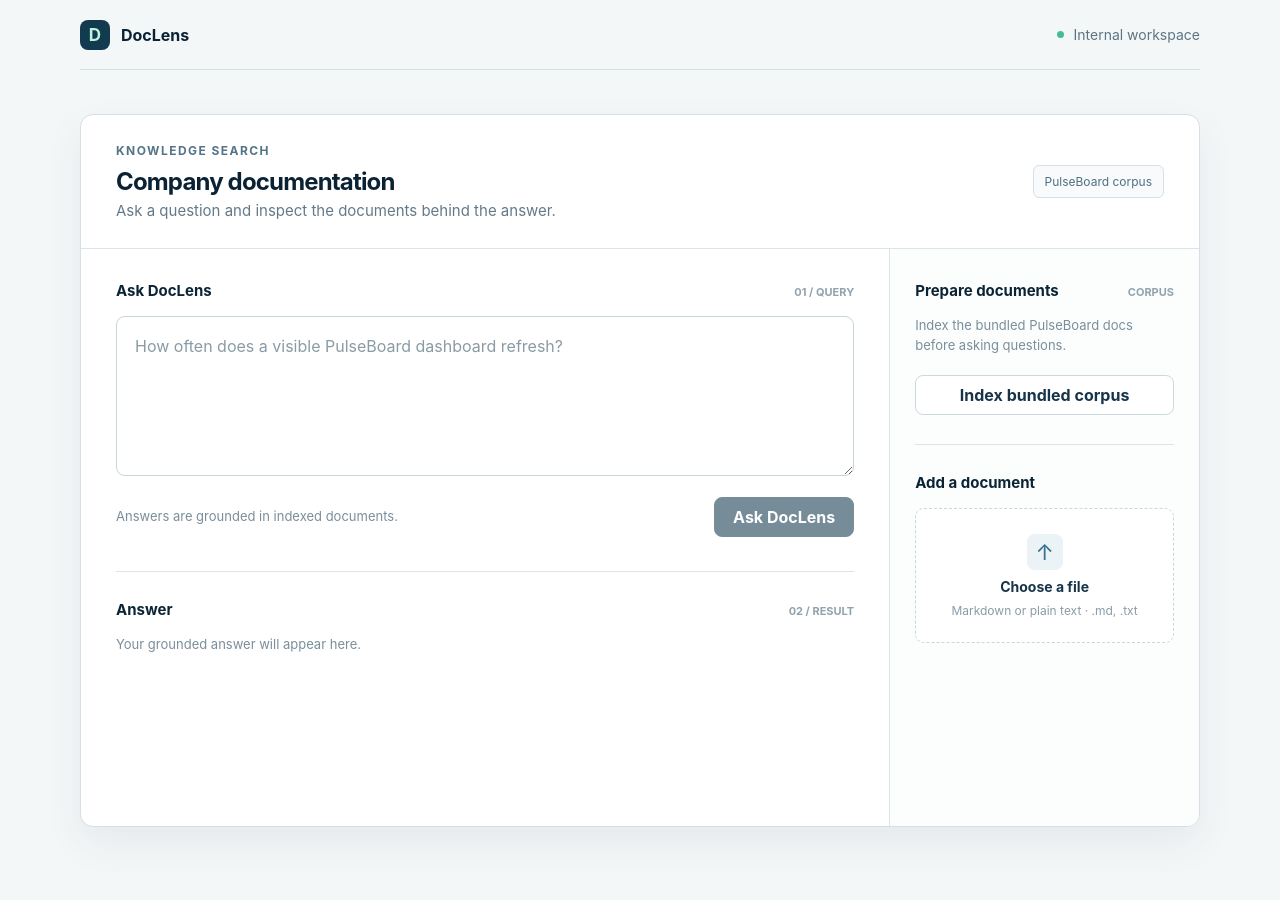
Test: DocLens frontend › shows a safe message when the backend cannot be reached
Type "Is the backend available?" into the text box named "Question".
click(485, 396); type("Is the backend available?")  # box top-left (116, 316), bottom-right (854, 476)
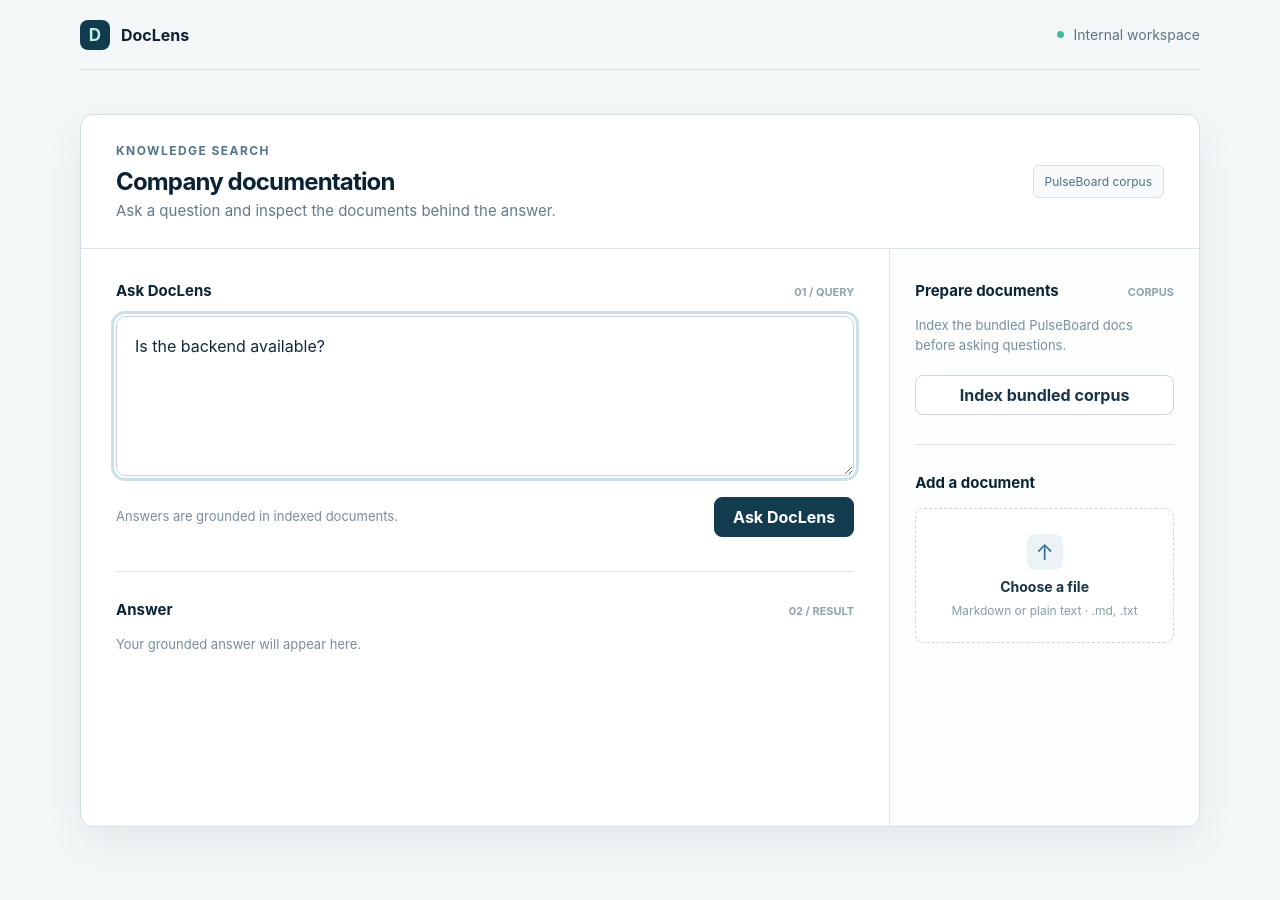
Click the button "Ask DocLens".
click(784, 517)  # box top-left (714, 497), bottom-right (854, 537)
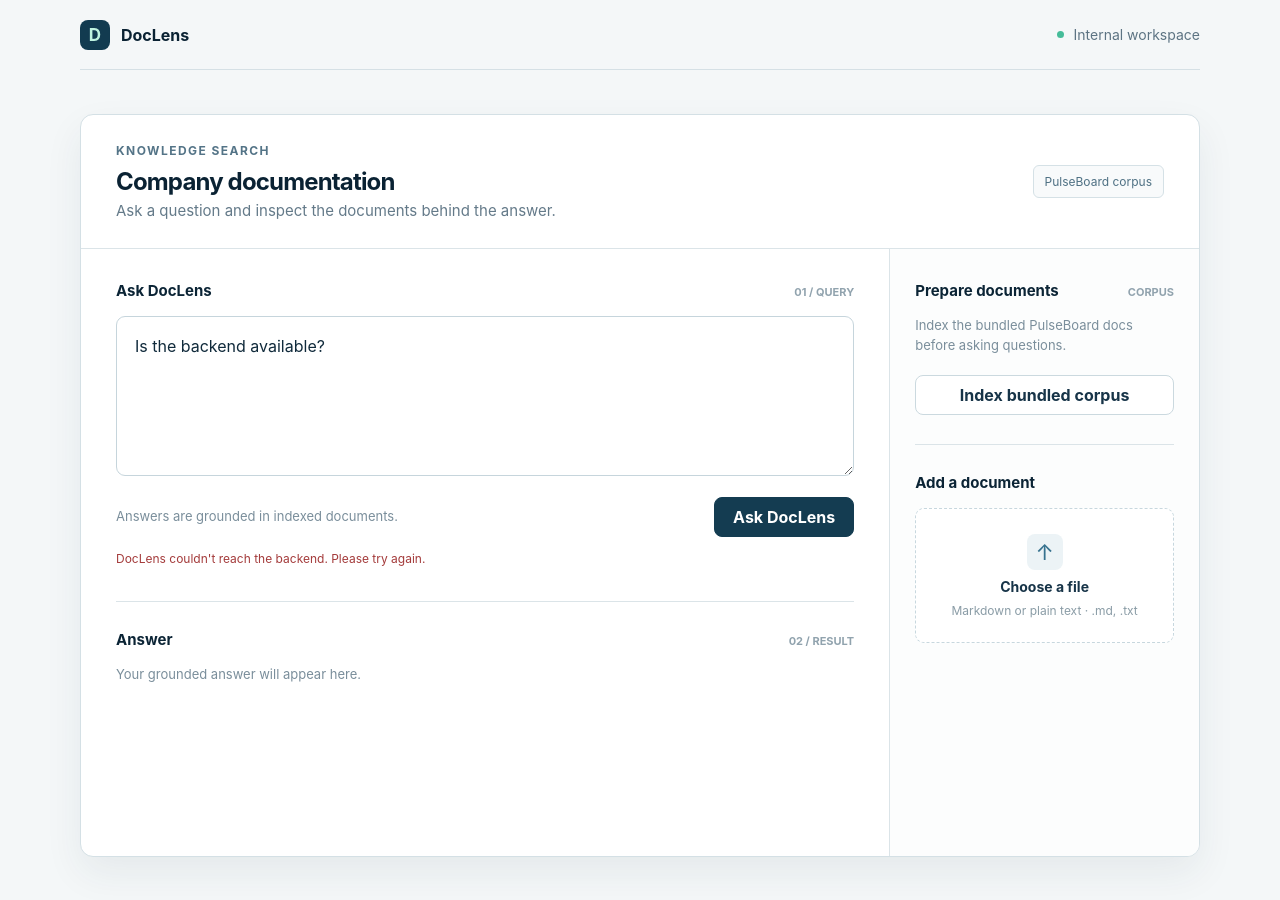
Result: the message reads "DocLens couldn't reach the backend. Please try again." at top-left (116, 551), bottom-right (425, 566)
